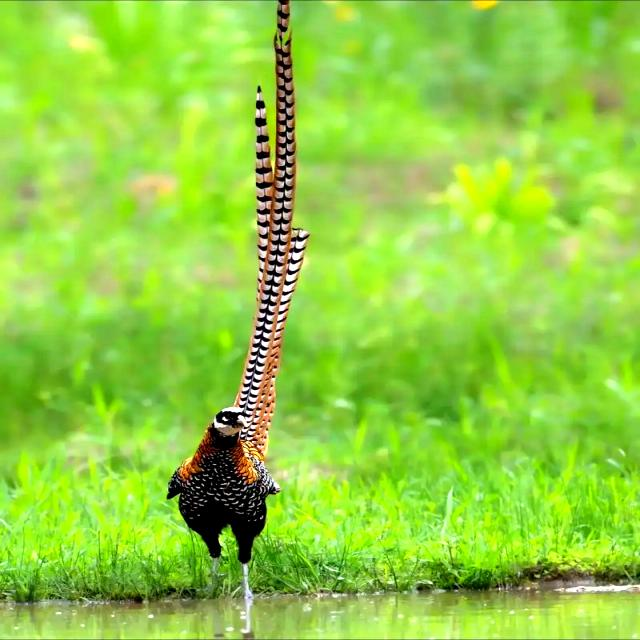Reeves-s Pheasant: (233, 0, 311, 456)
